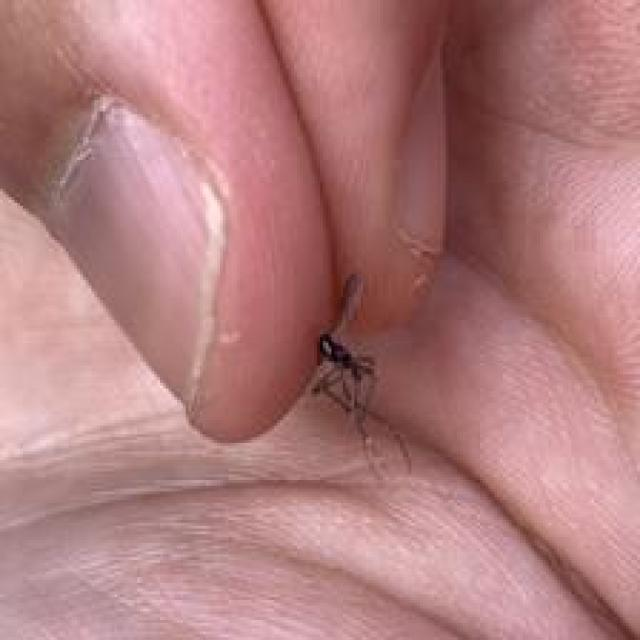Aedes albopictus: (307, 271, 413, 483)
